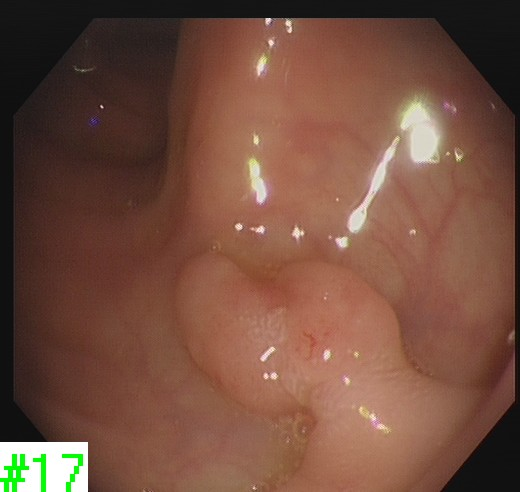adenoma: (170, 248, 410, 418)
